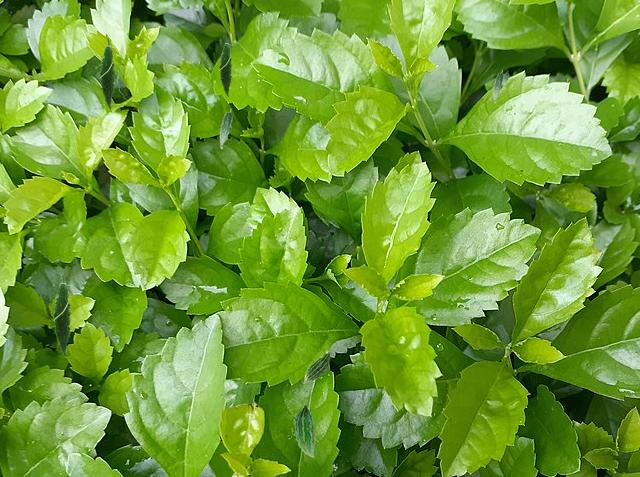ampalaya: (51, 273, 73, 357), (98, 37, 117, 110), (294, 403, 316, 458), (217, 36, 234, 97), (303, 350, 330, 384), (219, 108, 232, 149), (492, 69, 503, 103), (503, 70, 508, 87)
